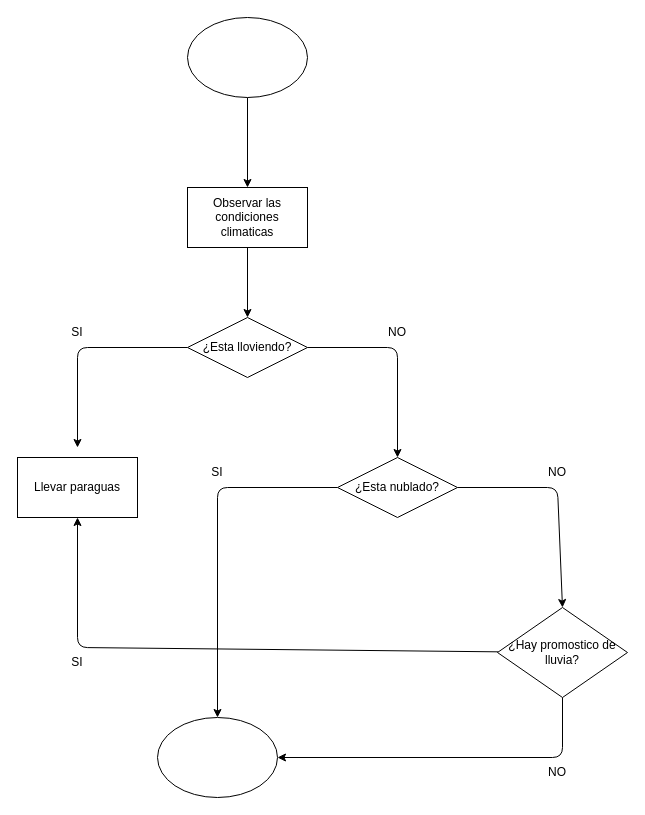
Some shapes in this 645 by 815 pixel diagram are drawn without their labels. Here are the shapes that lost their labels. From the top down, the centre of each, then its label:
At (x=247, y=57): "INICIO".
At (x=217, y=757): "FIN".
